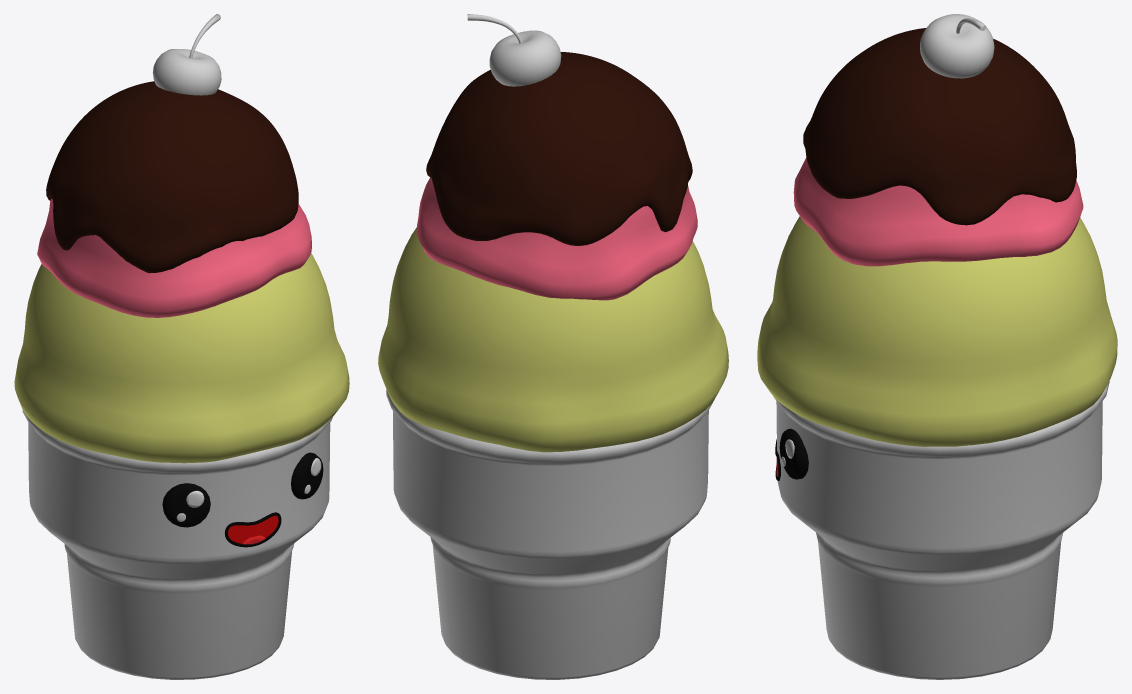
The model's file is smiling_ice_cream_sf.obj.
3 renders of one model, left to right at view 1: azimuth 30°, elevation 25°; view 2: azimuth 150°, elevation 25°; view 3: azimuth 270°, elevation 25°, orthographic. The views are drawn at different scales.
Parts seen in each view (by area): view 1: Cylinder, Sphere, Sphere.003, Sphere.001, Sphere.002, Cylinder.026, Plane, Cylinder.027; view 2: Cylinder, Sphere, Sphere.003, Sphere.001, Sphere.002; view 3: Cylinder, Sphere, Sphere.003, Sphere.001, Sphere.002, Cylinder.026.
Boxes of the visible parts, left/top/right/bottom form: Cylinder: left=22, top=410, right=332, bottom=679; Sphere: left=14, top=253, right=349, bottom=463; Sphere.003: left=46, top=81, right=298, bottom=273; Sphere.001: left=37, top=199, right=311, bottom=317; Sphere.002: left=152, top=49, right=221, bottom=95; Cylinder.026: left=162, top=452, right=323, bottom=527; Plane: left=228, top=515, right=278, bottom=543; Cylinder.027: left=176, top=458, right=321, bottom=521; Cylinder: left=386, top=389, right=714, bottom=679; Sphere: left=378, top=227, right=728, bottom=452; Sphere.003: left=426, top=52, right=692, bottom=245; Sphere.001: left=416, top=177, right=697, bottom=300; Sphere.002: left=489, top=30, right=561, bottom=86; Cylinder: left=773, top=381, right=1109, bottom=679; Sphere: left=757, top=216, right=1117, bottom=446; Sphere.003: left=803, top=28, right=1076, bottom=225; Sphere.001: left=793, top=157, right=1083, bottom=266; Sphere.002: left=920, top=14, right=994, bottom=78; Cylinder.026: left=779, top=428, right=808, bottom=479.
Bounding box in the file's own units: 0.9794 × 1.91 × 0.974.
